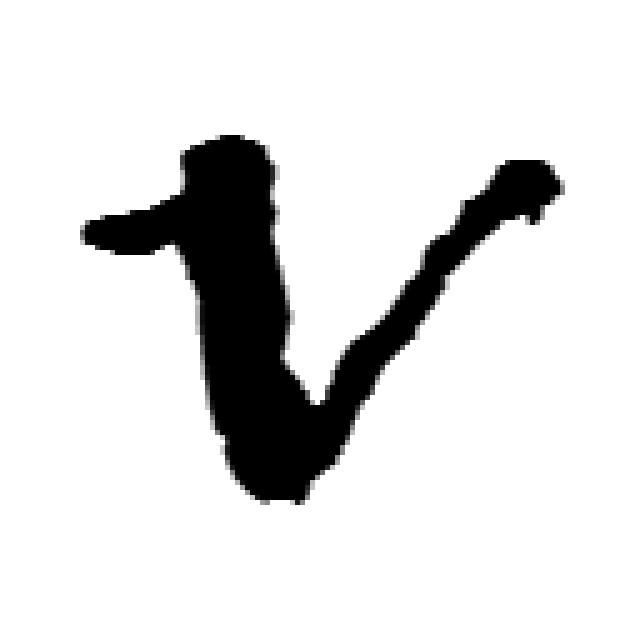V: (80, 135, 550, 505)
